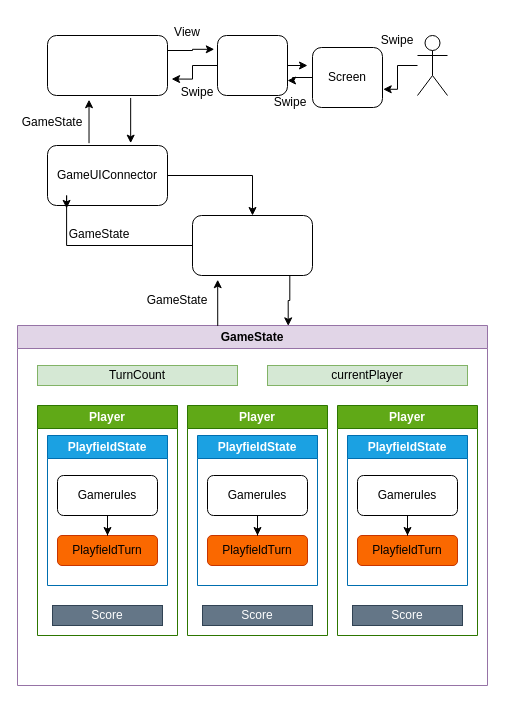
The diagram is 505 pixels wide and 703 high, and some of its shapes have lost their labels. The shapes that lost their labels are listed below. From the top down, each one's centre as x and y in pixels, then its label:
(107,65): Adapter
(252,65): UI
(432,65): Actor
(252,245): GameManagment
